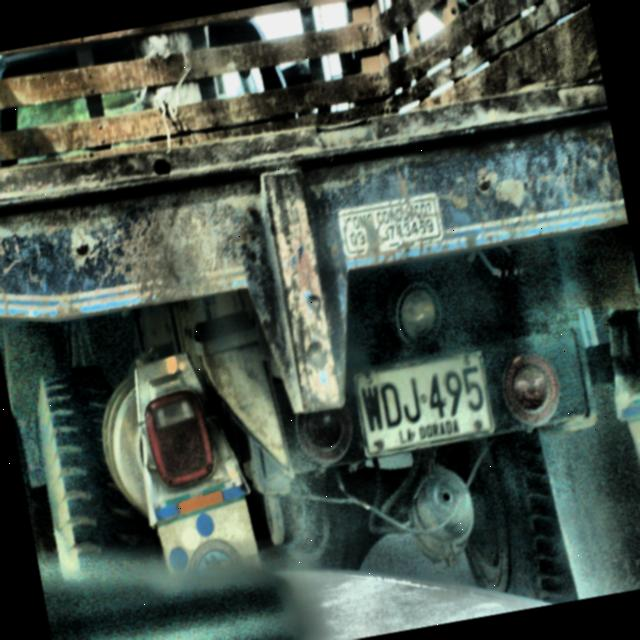plate: (355, 353, 493, 454)
